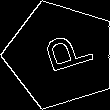P_W: (29, 29, 92, 81)
